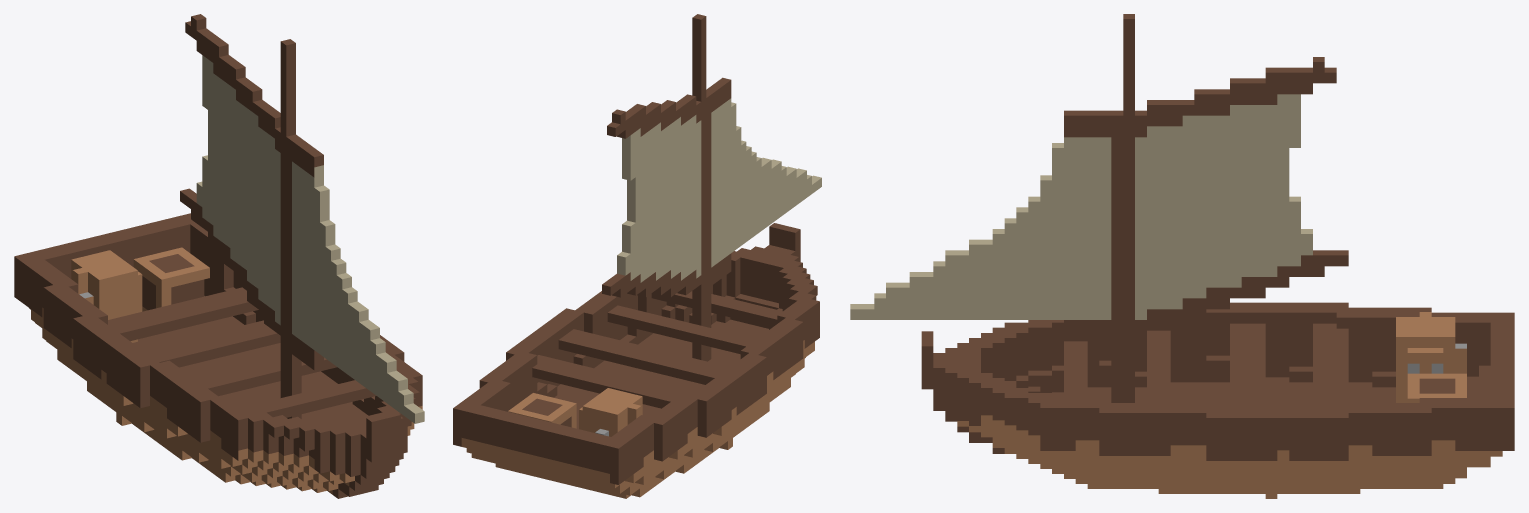
The model's file is sloop.glb.
The picture shows the model from 3 angles, left to right: view 1: azimuth 30°, elevation 25°; view 2: azimuth 150°, elevation 25°; view 3: azimuth 270°, elevation 25°; orthographic projection. The views are drawn at different scales.
Parts seen in each view (by area): view 1: Sail_Voxelized; view 2: Sail_Voxelized; view 3: Sail_Voxelized.
Boxes of the visible parts, <box> form: Sail_Voxelized: <box>14,14,424,498</box>; Sail_Voxelized: <box>453,14,821,498</box>; Sail_Voxelized: <box>850,14,1514,498</box>.
Size of the model in its own units: 0.3949 by 0.6868 by 0.9616.
